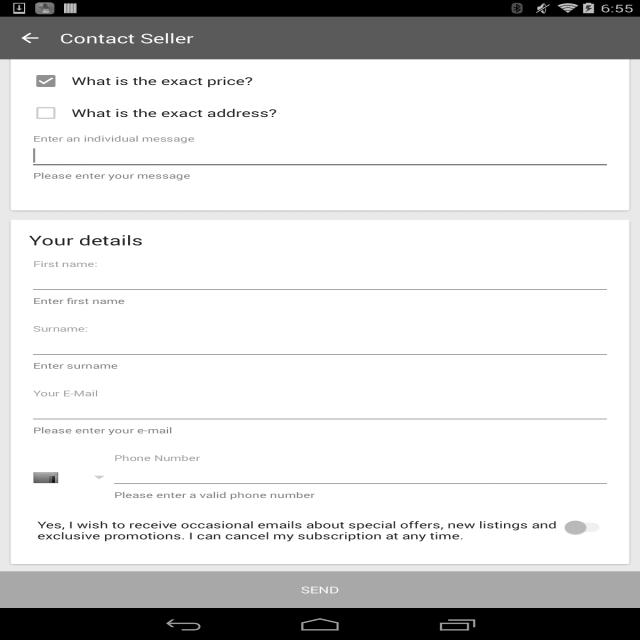CheckBox: (29, 38, 298, 60), (29, 102, 277, 124), (29, 70, 253, 92)
EditText: (29, 396, 611, 425), (29, 142, 611, 170), (29, 267, 611, 295), (29, 332, 611, 360), (110, 461, 611, 489)
ImageButton: (0, 30, 60, 46)
ImageView: (33, 470, 59, 486)
Spinner: (33, 464, 110, 491)
Switch: (29, 518, 611, 542)
TextView: (0, 571, 640, 608), (29, 231, 611, 249), (60, 29, 194, 47), (114, 490, 315, 500), (33, 170, 190, 181), (33, 424, 172, 436), (33, 360, 118, 371), (33, 296, 125, 306)
